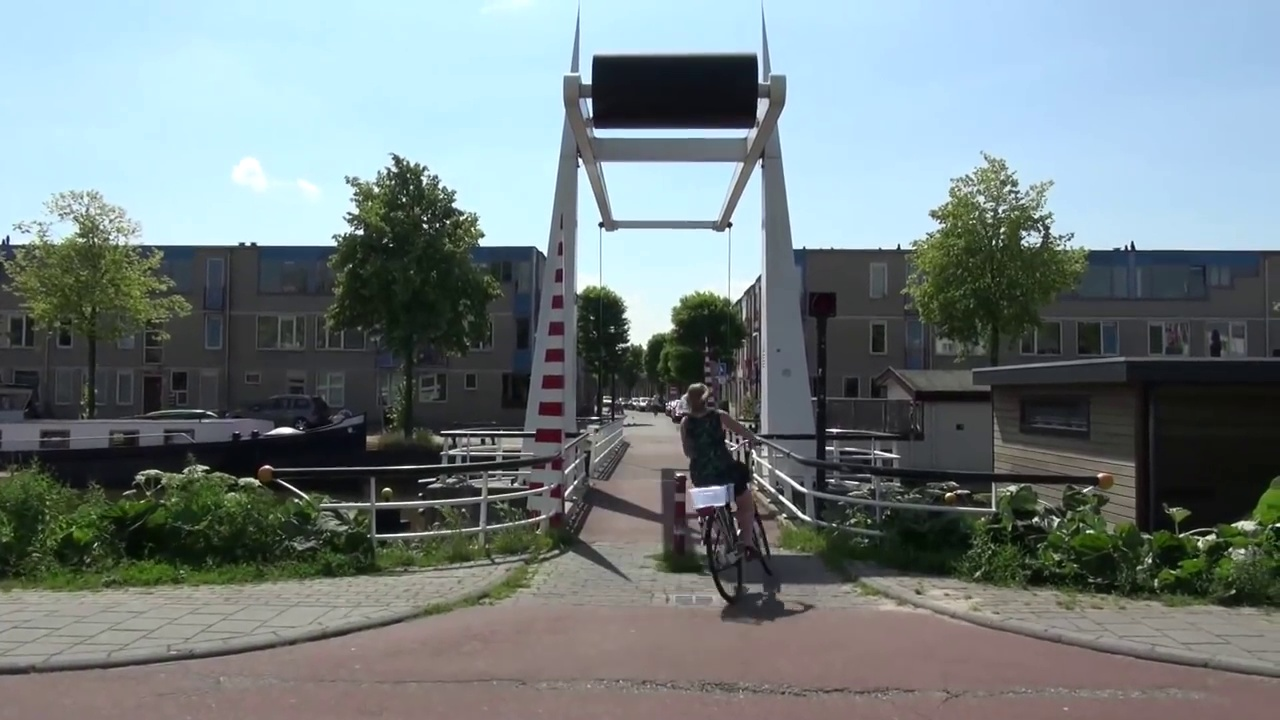cyclist_back: (663, 360, 791, 606)
